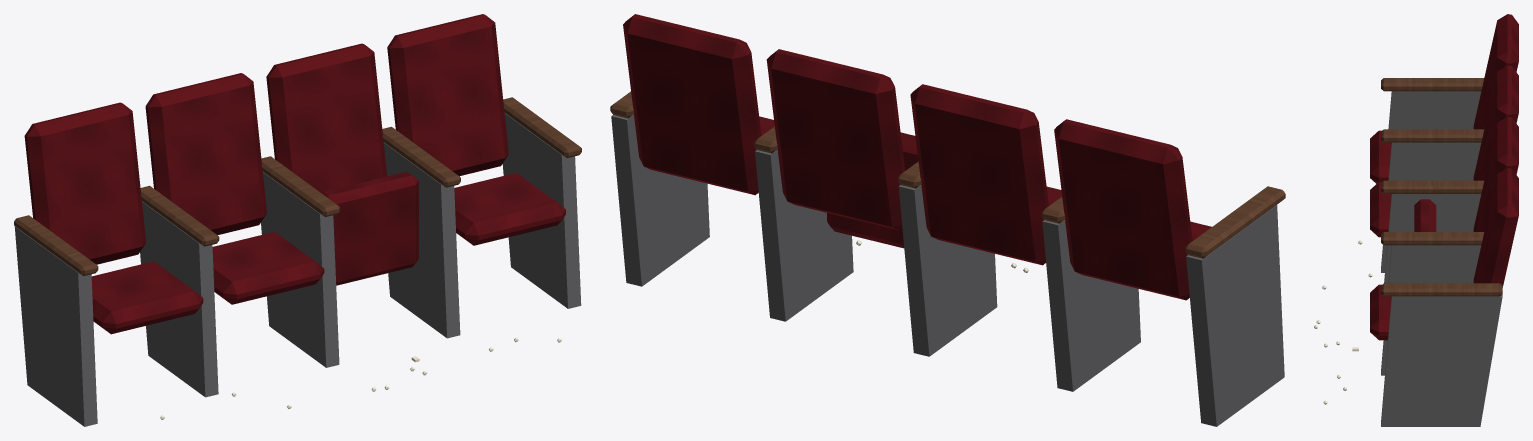
Rendered from poltronas_cinema.glb.
3 renders of one model, left to right at view 1: azimuth 30°, elevation 25°; view 2: azimuth 150°, elevation 25°; view 3: azimuth 270°, elevation 25°, orthographic. The views are drawn at different scales.
Visible parts, largest first — view 1: poltronas_cinema_poltrona_cinema, poltronas_cinema_esmalte_escuro, poltronas_cinema_madeira_escura; view 2: poltronas_cinema_poltrona_cinema, poltronas_cinema_esmalte_escuro, poltronas_cinema_madeira_escura; view 3: poltronas_cinema_esmalte_escuro, poltronas_cinema_poltrona_cinema, poltronas_cinema_madeira_escura.
Boxes of the visible parts, x1,y1,x2,y2 form: poltronas_cinema_poltrona_cinema: [24, 14, 565, 334]; poltronas_cinema_esmalte_escuro: [14, 113, 581, 426]; poltronas_cinema_madeira_escura: [14, 97, 581, 276]; poltronas_cinema_poltrona_cinema: [623, 14, 1211, 300]; poltronas_cinema_esmalte_escuro: [611, 114, 1284, 426]; poltronas_cinema_madeira_escura: [610, 91, 1285, 258]; poltronas_cinema_esmalte_escuro: [1381, 91, 1502, 426]; poltronas_cinema_poltrona_cinema: [1370, 14, 1518, 340]; poltronas_cinema_madeira_escura: [1381, 78, 1502, 296].
Size of the model in its own units: 2.28 by 1.06 by 0.9273.
5 materials, 2 textured.
